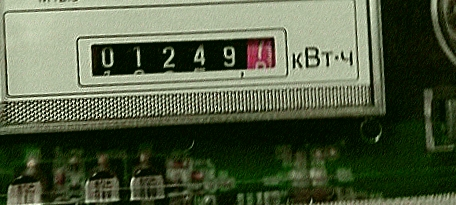0: (95, 42, 116, 69)
1: (127, 43, 144, 69)
2: (157, 44, 179, 71)
4: (189, 40, 209, 68)
7: (250, 37, 267, 62)
9: (218, 42, 238, 68)
screen: (65, 15, 303, 107)
